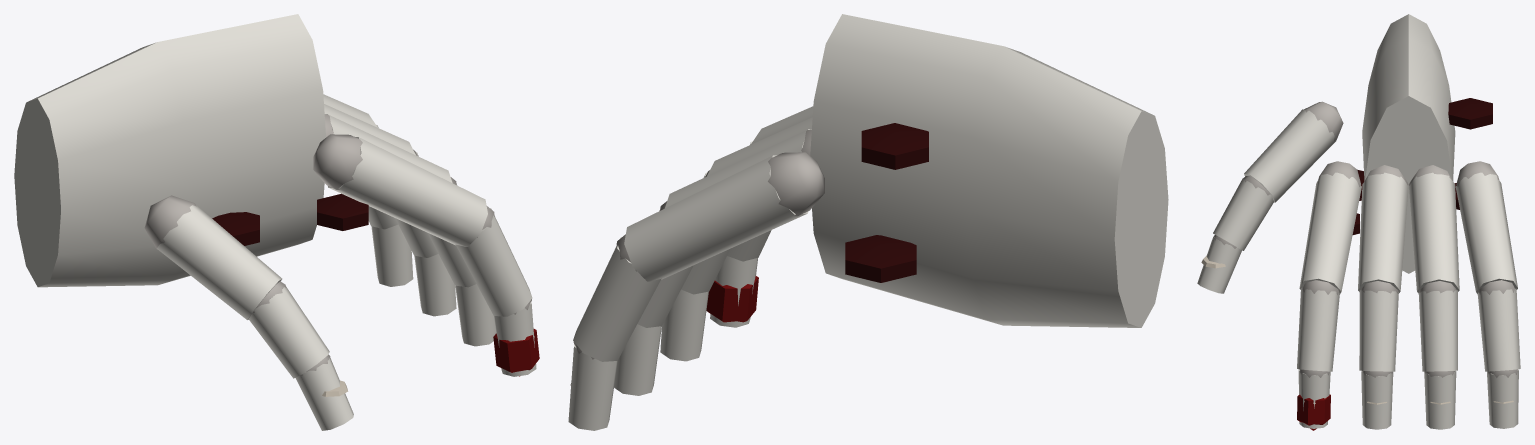
File: ps_hand@1.glb
3 views of the same model, side by side, from view 1: azimuth 30°, elevation 25°; view 2: azimuth 150°, elevation 25°; view 3: azimuth 270°, elevation 25° (orthographic). The views are drawn at different scales.
Visible parts, largest first — view 1: teil0, teil1, teil4, teil3; view 2: teil0, teil4, teil1, teil3; view 3: teil0, teil1, teil4, teil3.
Part boxes in pixels (x1,y1,x2,y2): teil0: (14, 14, 536, 430); teil1: (144, 114, 531, 375); teil4: (212, 193, 368, 245); teil3: (493, 329, 539, 376); teil0: (568, 14, 1168, 430); teil4: (845, 123, 928, 282); teil1: (573, 129, 824, 359); teil3: (706, 276, 758, 322); teil0: (1197, 14, 1520, 429); teil1: (1213, 101, 1517, 377); teil4: (1352, 98, 1492, 234); teil3: (1297, 394, 1330, 430).
Size of the model in its own units: 0.2183 by 0.1729 by 0.1811.
